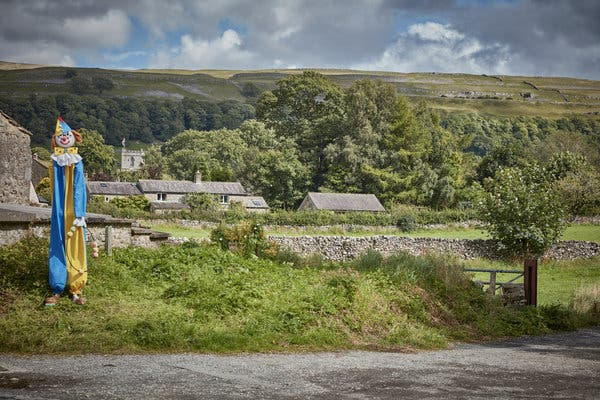person-like: (44, 112, 91, 309)
